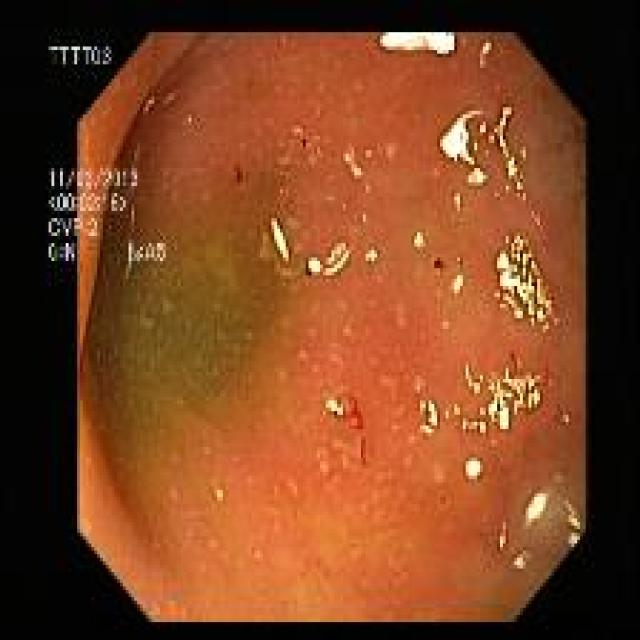ulcerative-colitis: (80, 33, 585, 620)
